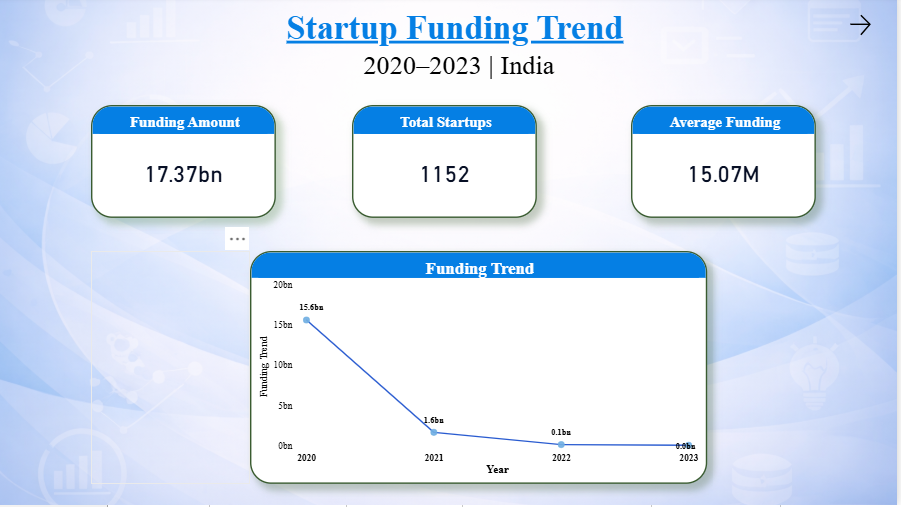

The dashboard page shown, as its layout file describes it:
{"tool":"powerbi","page":{"name":"Cover Page","canvas":[1280,720],"ordinal":0},"visuals":[{"type":"textbox","box":[411,0,498.9,79.4],"z":0},{"type":"card","title":"Funding Amount","fields":{"Values":["Sum(india_state_startup_funding_Project.Amount (USD))"]},"box":[138.9,153.1,262.2,160.2],"z":3000},{"type":"card","title":"Total Startups","fields":{"Values":["CountNonNull(india_state_startup_funding_Project.Startup Name)"]},"box":[508.8,153.1,262.2,160.2],"z":4000},{"type":"card","title":"Average Funding","fields":{"Values":["Avg(india_state_startup_funding_Project.Amount (USD))"]},"box":[904.3,153.1,262.2,160.2],"z":5000},{"type":"lineChart","title":"Funding Trend ","fields":{"Category":["india_state_startup_funding_Project.Year"],"Y":["Sum(india_state_startup_funding_Project.Amount (USD))"]},"box":[364.3,360,647.7,330.2],"z":6000},{"type":"actionButton","box":[1179.2,19.8,100.6,39.7],"z":6001},{"type":"textbox","box":[139,360,225,330],"z":6002},{"type":"textbox","box":[411,9.9,523,69.4],"z":6003},{"type":"textbox","box":[350.1,69.4,620.8,55.3],"z":6004}]}

Visuals, with their boxes in screenshot pixels (x1, y1, x2, y2), scaled from the page's 1280x720 canvas onto the 901x507 screenshot:
textbox: rect(289, 0, 640, 56)
"Funding Amount" card: rect(98, 108, 282, 221)
"Total Startups" card: rect(358, 108, 543, 221)
"Average Funding" card: rect(637, 108, 821, 221)
"Funding Trend " lineChart: rect(256, 254, 712, 486)
actionButton: rect(830, 14, 900, 42)
textbox: rect(98, 254, 256, 486)
textbox: rect(289, 7, 657, 56)
textbox: rect(246, 49, 683, 88)
